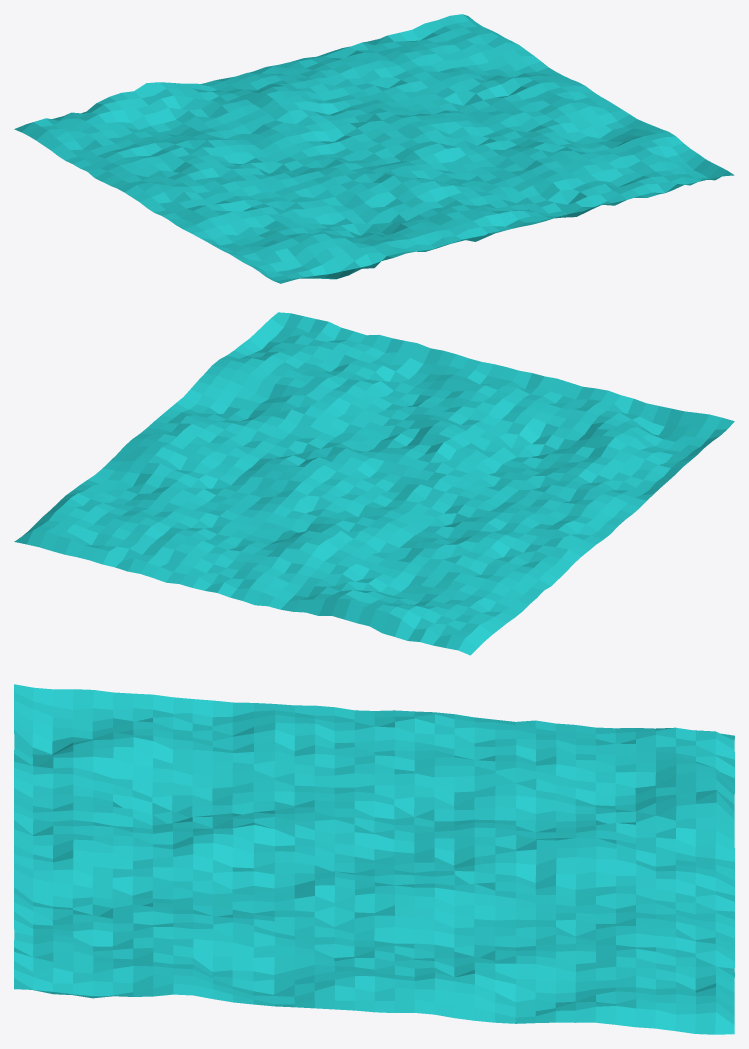
The model's file is Sea.FBX.
3 renders of one model, top to bottom at view 1: azimuth 30°, elevation 25°; view 2: azimuth 150°, elevation 25°; view 3: azimuth 270°, elevation 25°, orthographic. The views are drawn at different scales.
Visible parts, largest first — view 1: Plane004; view 2: Plane004; view 3: Plane004.
Part boxes in pixels (x1,y1,x2,y2): Plane004: (14, 14, 734, 283); Plane004: (14, 312, 734, 655); Plane004: (14, 684, 734, 1034).
Size of the model in its own units: 423 by 36.93 by 426.
